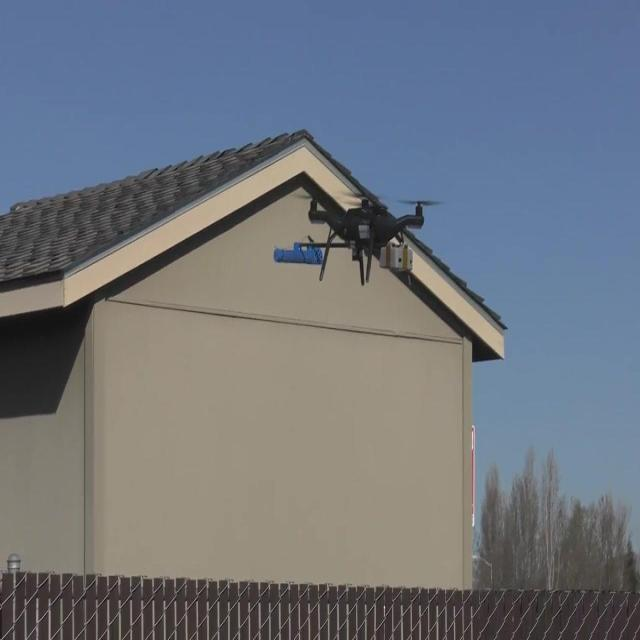drone: (273, 187, 444, 291)
